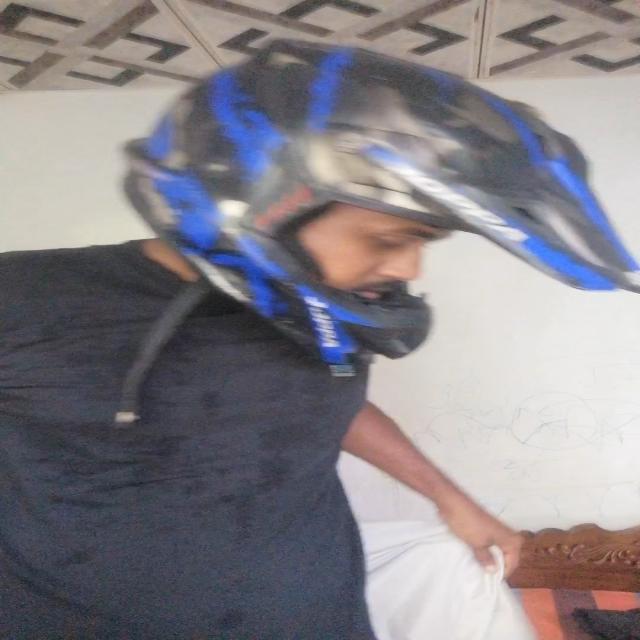Helmet_Wearer: (108, 50, 639, 368)
Person: (27, 48, 631, 640)
